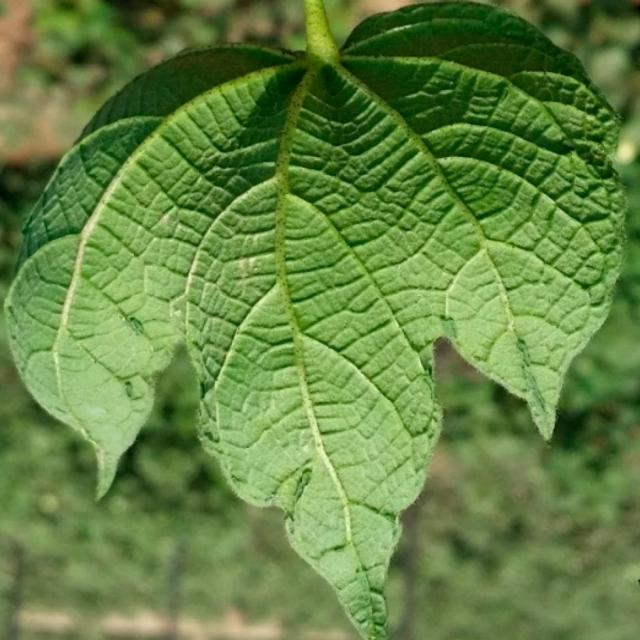Leaf Curl Virus: (82, 74, 606, 427)
